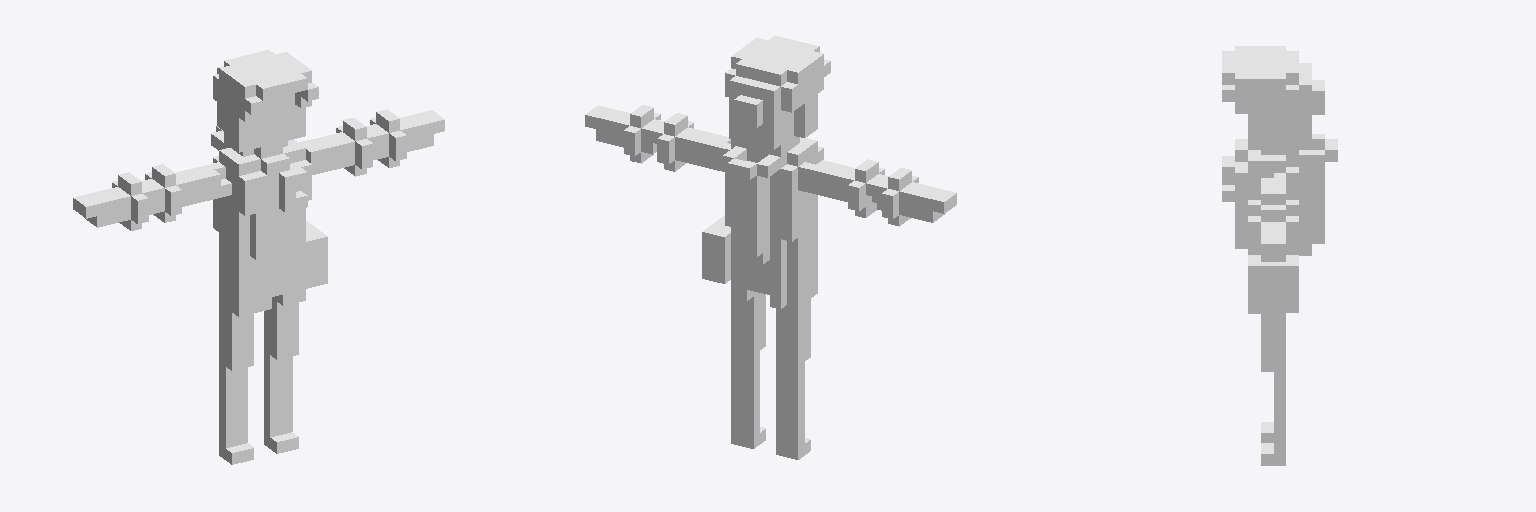
File: Character9.obj
3 views of the same model, side by side, from view 1: azimuth 30°, elevation 25°; view 2: azimuth 150°, elevation 25°; view 3: azimuth 270°, elevation 25° (orthographic).
Parts seen in each view (by area): view 1: Character08_Mesh.008; view 2: Character08_Mesh.008; view 3: Character08_Mesh.008.
Part boxes in pixels (bbox=[...]): Character08_Mesh.008: bbox=[73, 50, 444, 464]; Character08_Mesh.008: bbox=[585, 36, 956, 459]; Character08_Mesh.008: bbox=[1222, 46, 1337, 465].
Bounding box in the file's own units: 12.15 × 12.53 × 3.42.